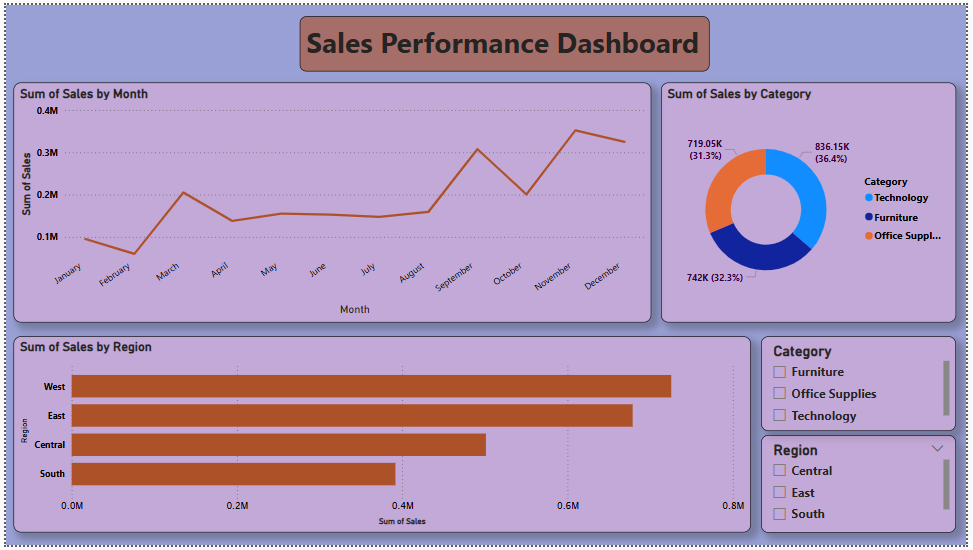

This screenshot's page, from the dashboard's own definition file:
{"tool":"powerbi","page":{"name":"Page 1","canvas":[1280,720],"ordinal":0},"visuals":[{"type":"lineChart","fields":{"Y":["Sum(Sample - Superstore.Sales)"],"Category":["Sample - Superstore.Order Date.Variation.Date Hierarchy.Month"]},"box":[10,103.1,850,320],"z":0},{"type":"clusteredBarChart","fields":{"Category":["Sample - Superstore.Region"],"Y":["Sum(Sample - Superstore.Sales)"]},"box":[10,441.7,983.3,261.7],"z":1000},{"type":"donutChart","fields":{"Y":["Sum(Sample - Superstore.Sales)"],"Category":["Sample - Superstore.Category"]},"box":[873.3,103.3,393.3,320],"z":2000},{"type":"slicer","fields":{"Values":["Sample - Superstore.Category"]},"box":[1006.7,441.7,260,126.7],"z":3000},{"type":"slicer","fields":{"Values":["Sample - Superstore.Region"]},"box":[1006.7,573.3,260,130],"z":4000},{"type":"textbox","box":[391.7,15,546.7,73.3],"z":5000}]}

Visuals, with their boxes in screenshot pixels (x1, y1, x2, y2), scaled from the page's 1280x720 canvas onto the 973x550 screenshot:
lineChart - Sum(Sample - Superstore.Sales) x Sample - Superstore.Order Date.Variation.Date Hierarchy.Month: 8, 79, 654, 323
clusteredBarChart - Sample - Superstore.Region x Sum(Sample - Superstore.Sales): 8, 337, 755, 537
donutChart - Sum(Sample - Superstore.Sales) x Sample - Superstore.Category: 664, 79, 963, 323
slicer - Sample - Superstore.Category: 765, 337, 963, 434
slicer - Sample - Superstore.Region: 765, 438, 963, 537
textbox: 298, 11, 713, 67
